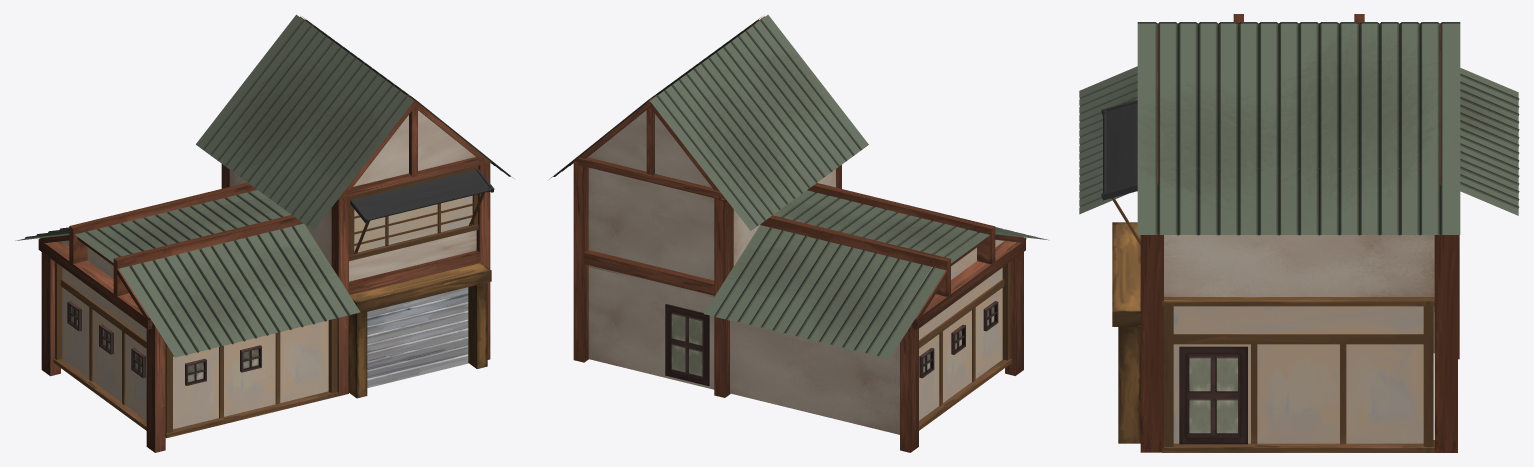
File: Nha 13.fbx
3 renders of one model, left to right at view 1: azimuth 30°, elevation 25°; view 2: azimuth 150°, elevation 25°; view 3: azimuth 270°, elevation 25°, orthographic. The views are drawn at different scales.
Parts seen in each view (by area): view 1: Cylinder.001; view 2: Cylinder.001; view 3: Cylinder.001.
Boxes of the visible parts, x1,y1,x2,y2 form: Cylinder.001: (15,14,514,452); Cylinder.001: (549,15,1049,452); Cylinder.001: (1079,14,1519,452).
Size of the model in its own units: 1591 by 1210 by 1216.
